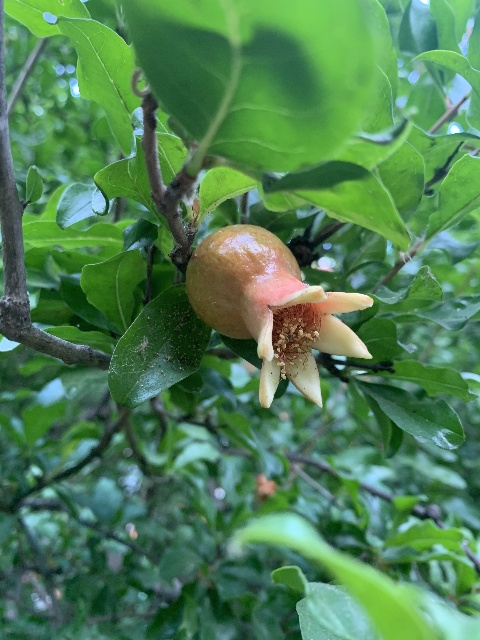early-fruit: (185, 223, 375, 412)
